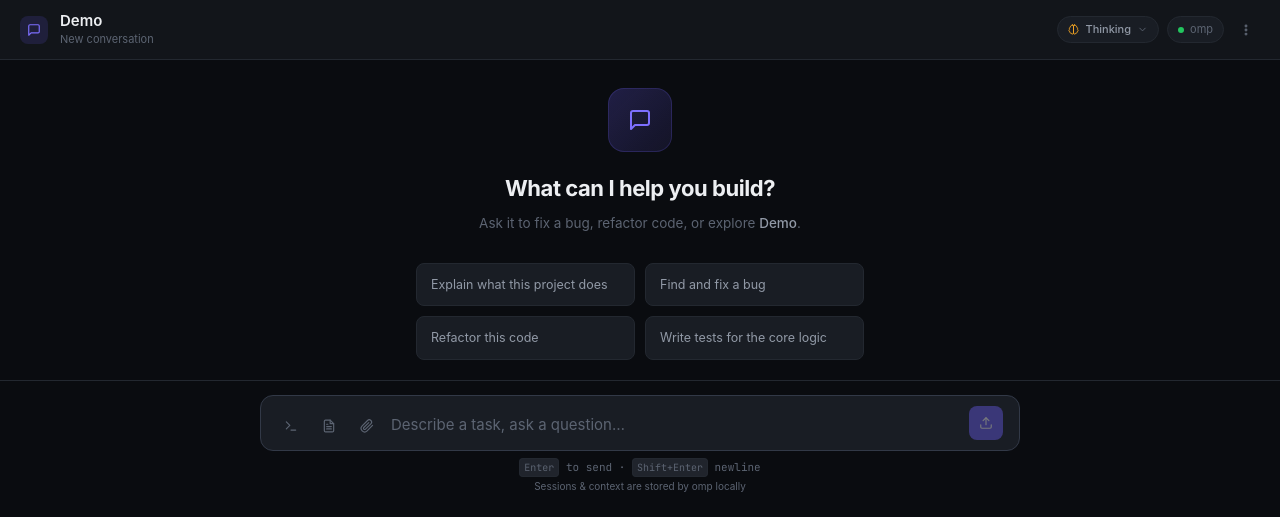
Scenario: AgentChat › persists thinking on the assistant message after the turn ends (open by default, collapsible with preview)
The image size is (1280, 517).
Type "think again" into the text box with placeholder "Describe a task, ask a question…" at [675, 425], box [391, 410, 959, 440]
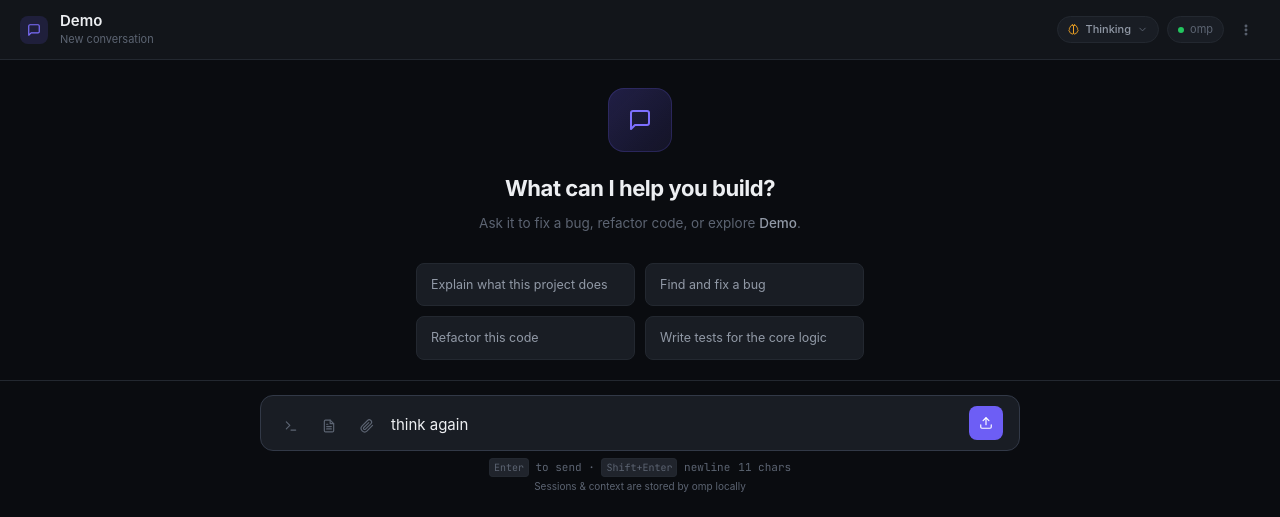
Click the button named "Send message" at [986, 423], box [969, 406, 1003, 440]
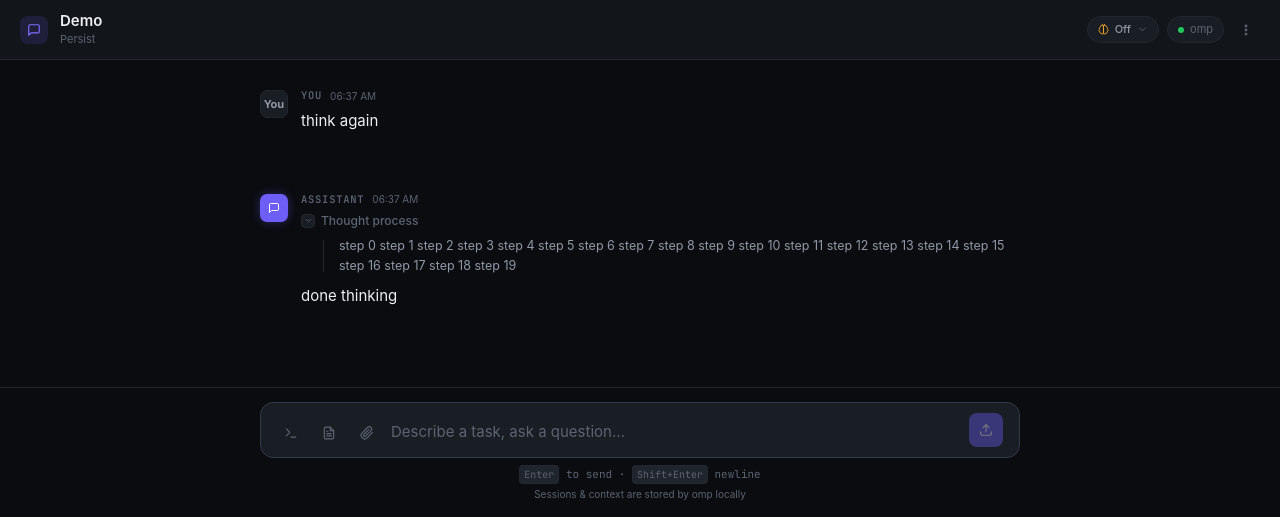
Expected: the text "think again" is shown, [301, 111, 378, 130]
Expected: the text "done thinking" is shown, [301, 286, 397, 305]
Expected: the text "step 19" is shown, [339, 238, 1008, 273]
# Collapsing shows a preview snippet instead of nothing
Click the button "Thought process" at [360, 221], box [301, 212, 418, 230]
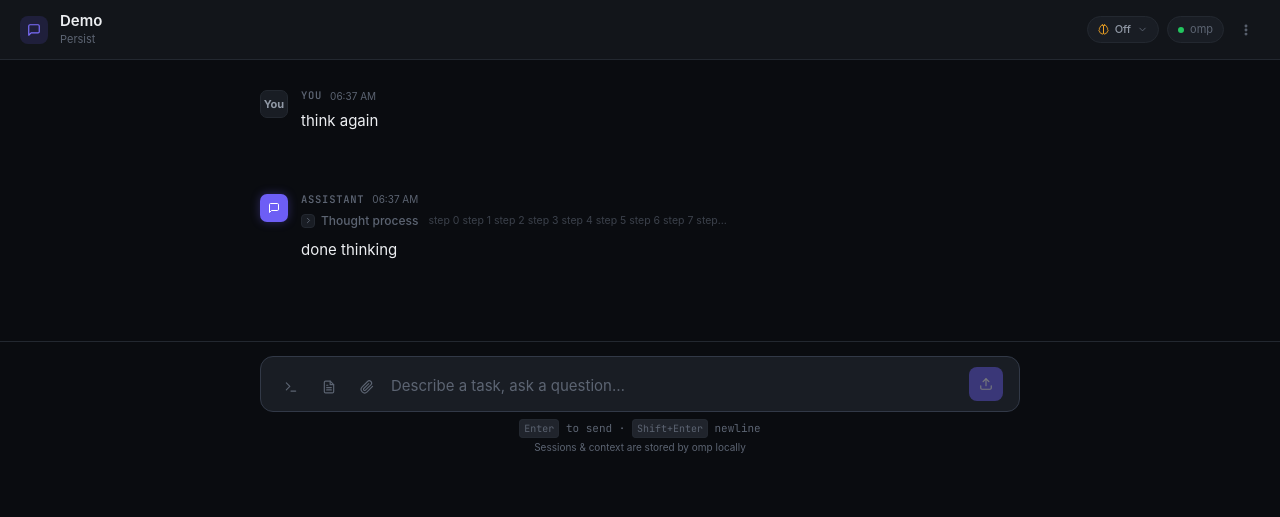
Expected: the text "step 0" is shown, [428, 214, 999, 227]
Expected: the text "step 19" is gone
# Expanding reveals the full reasoning again
Click the text "Thought process" at [370, 221], box [321, 212, 418, 230]
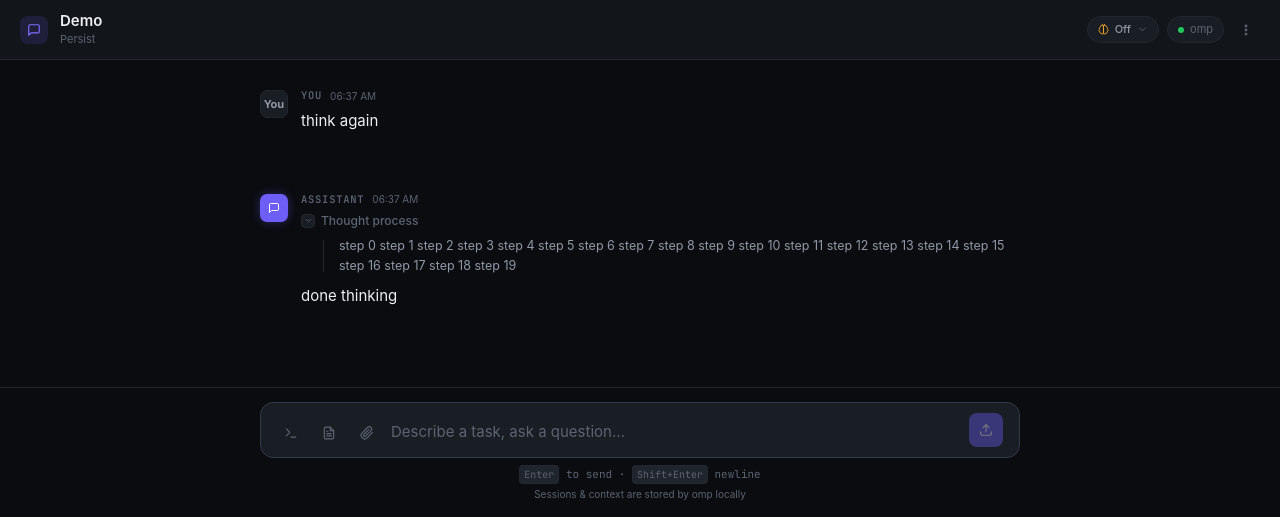
Expected: the text "step 19" is shown, [339, 238, 1008, 273]
